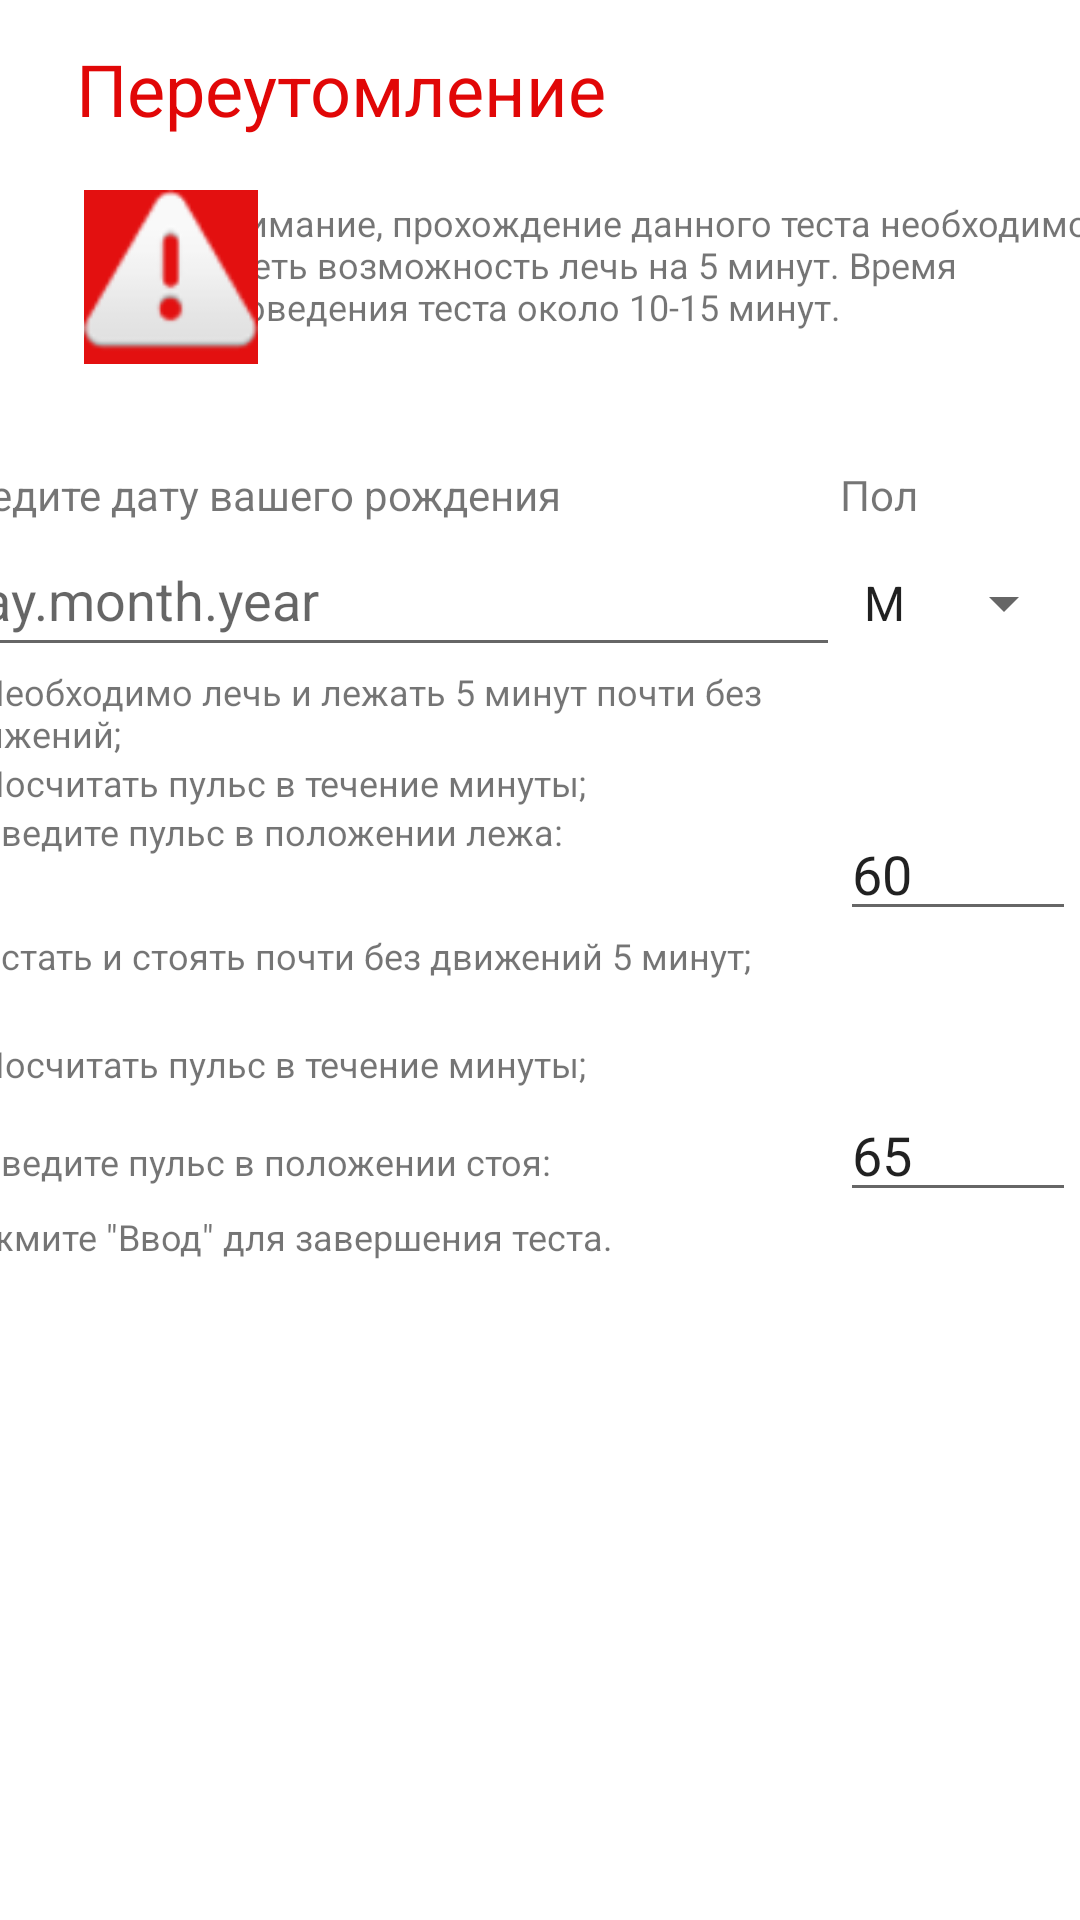

Named icons in this screenshot (1080x1920) and their centers, [x,y]:
Привлечение внимания: [171,277]
